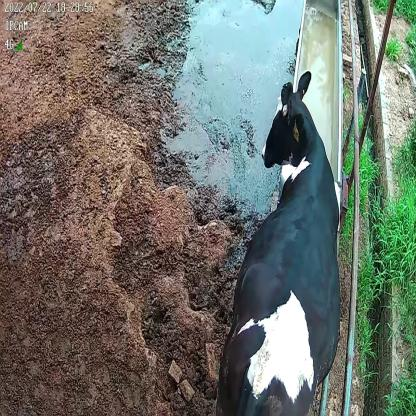cow: (213, 66, 342, 416)
